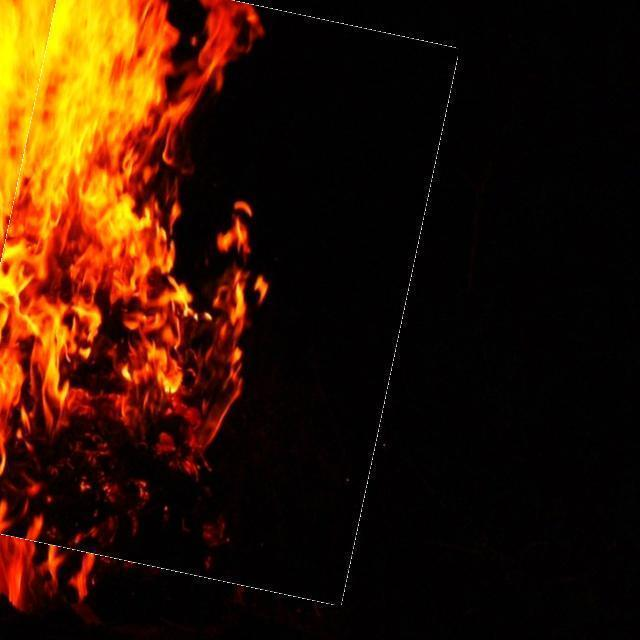Fire: (0, 1, 264, 492)
